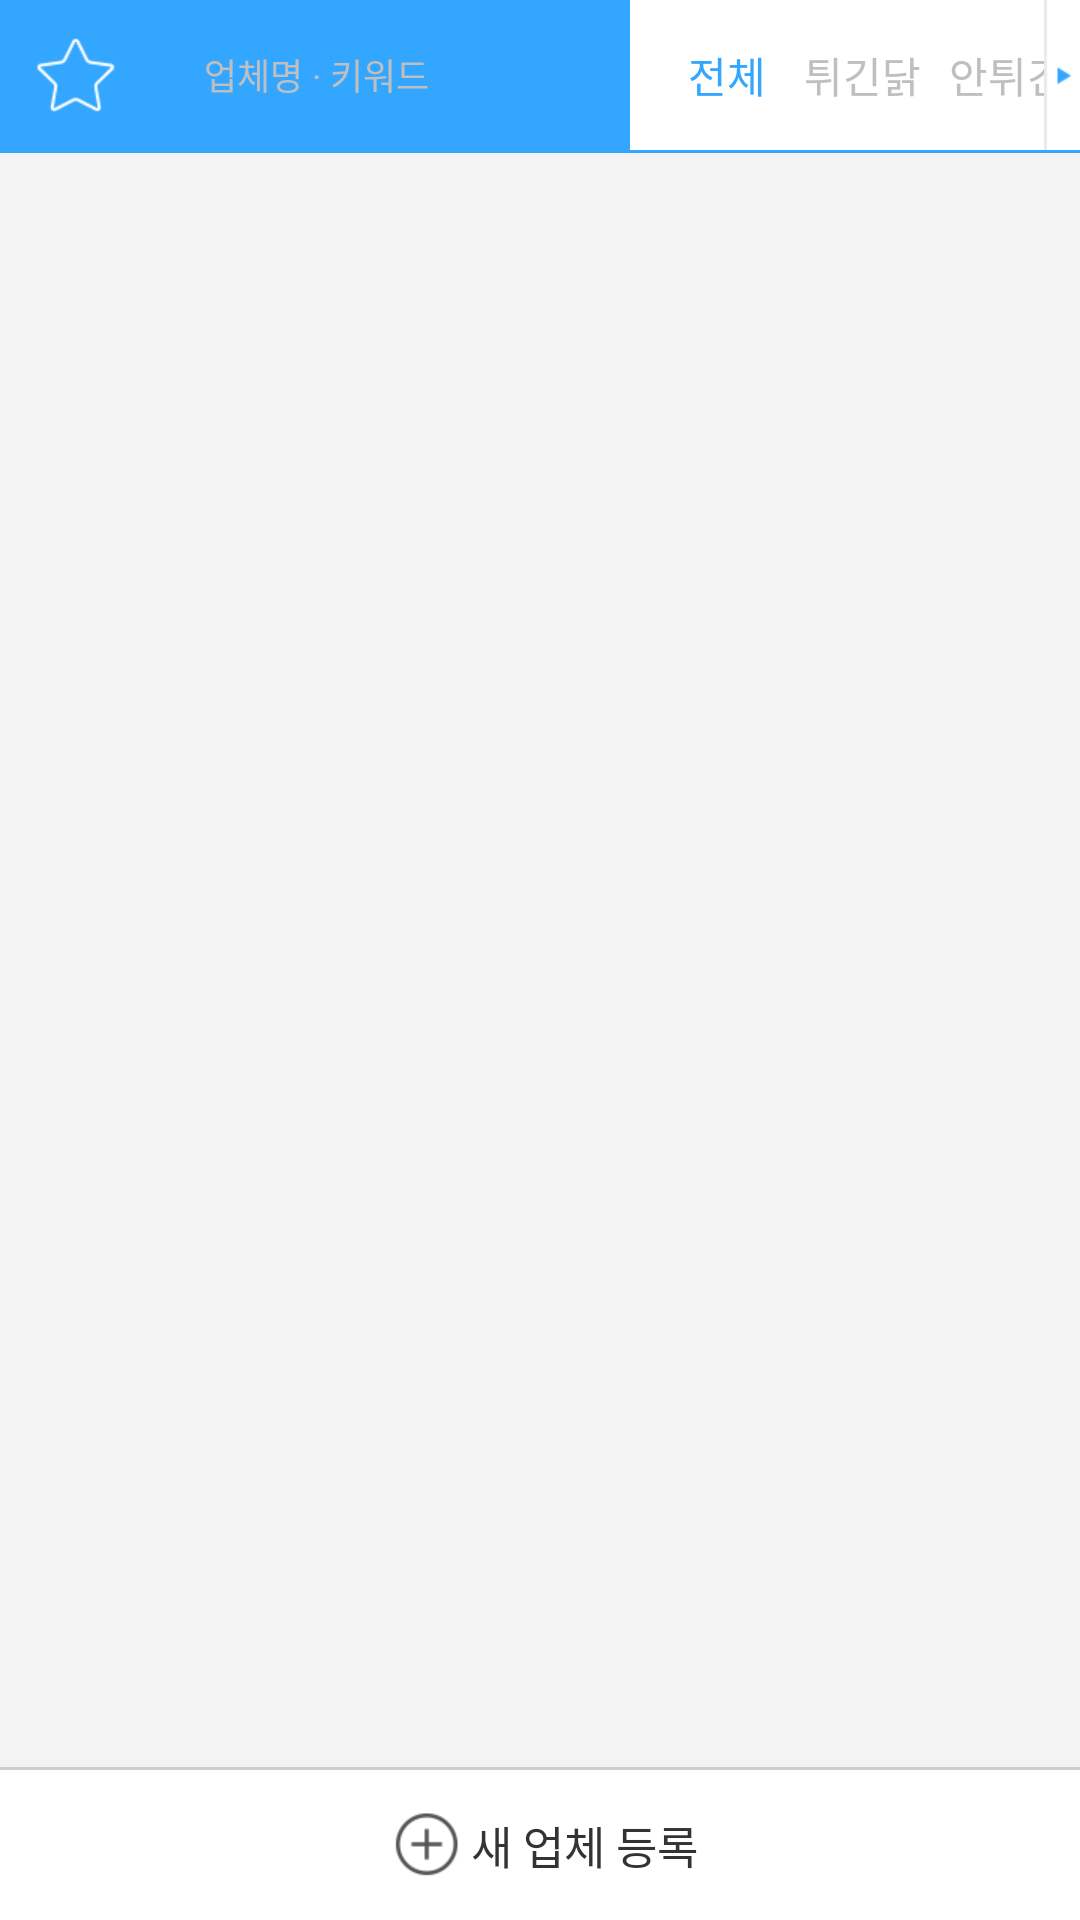

Where to tap for icons on this 1080*1920 app screen, as (x,y):
item add: (426,1844)
